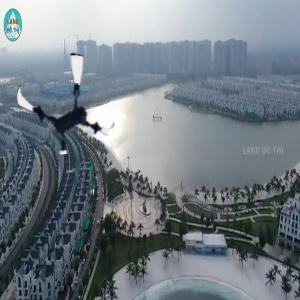drone: (16, 54, 117, 155)
